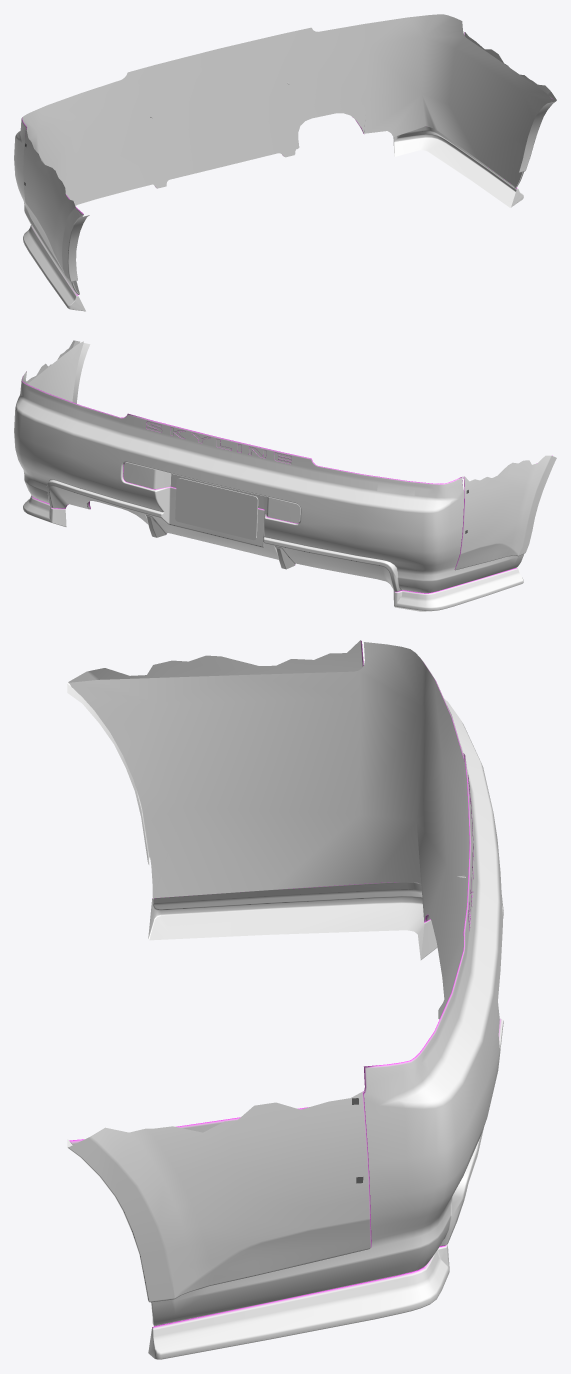
The model's file is Car_Nissan_SkylineGTRVspecR34_1999_BumperR_SetD_AltB.fbx.
The picture shows the model from 3 angles, top to bottom: view 1: azimuth 30°, elevation 25°; view 2: azimuth 150°, elevation 25°; view 3: azimuth 270°, elevation 25°; orthographic projection. The views are drawn at different scales.
Visible parts, largest first — view 1: BumperR 6; view 2: BumperR 6; view 3: BumperR 6.
Boxes of the visible parts, x1,y1,x2,y2 form: BumperR 6: (14,14,556,311); BumperR 6: (14,340,556,611); BumperR 6: (67,640,503,1359).
Bounding box in the file's own units: 1.8 × 0.5484 × 0.712.
